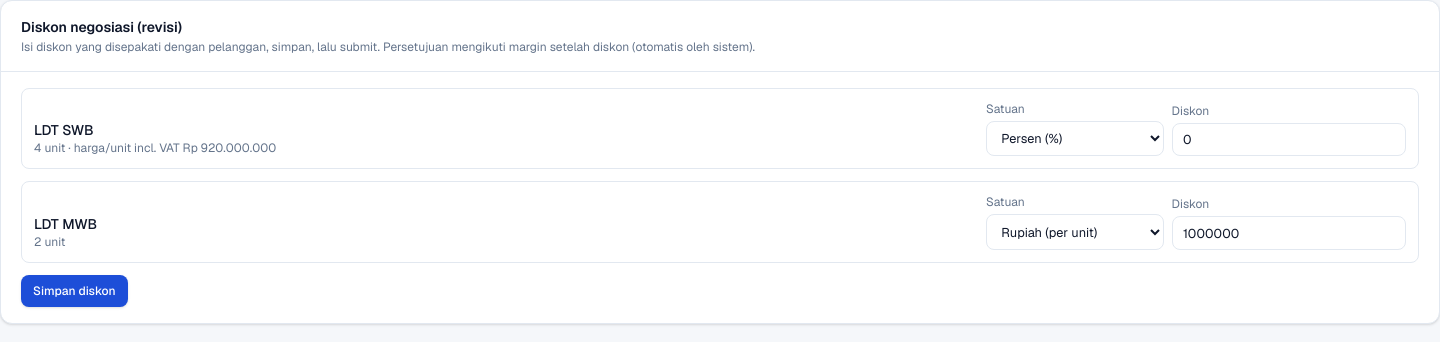
RevisionDiscountPanel (diskon Salesperson pada draft revisi) › menyimpan diskon per baris dengan satuan masing-masing
Replace the text in the number field labelled "Diskon" in the row of "Rp 920.000.000" with "5" at (1289, 140), box [1172,123,1406,156]
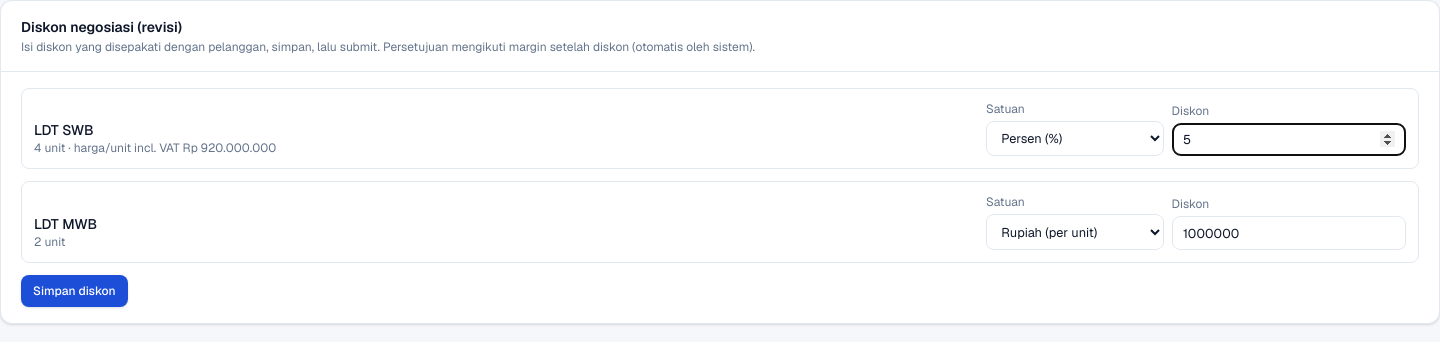
Click the button "Simpan diskon" at (74, 291), box [21,275,128,307]
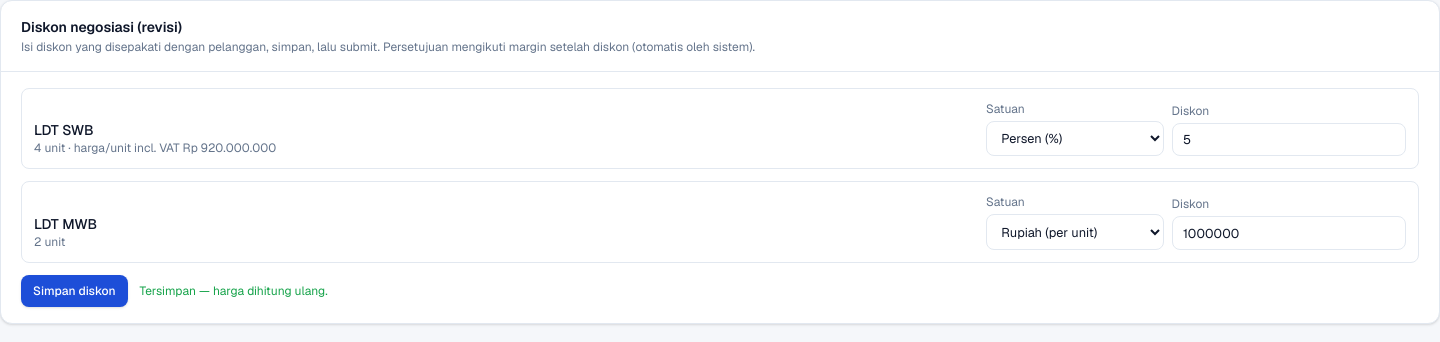
Expected: the text "Tersimpan — harga dihitung ulang." is shown, [140,283,328,299]
